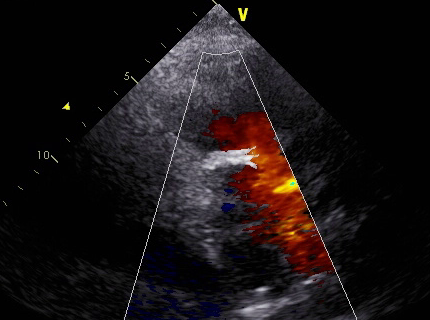PR: (237, 105, 324, 271)
